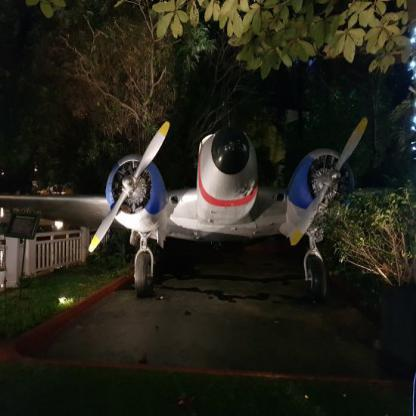CIV_Plane: (0, 116, 379, 344)
